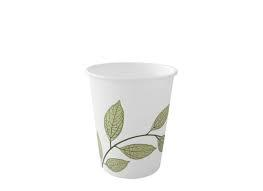cup: (83, 48, 171, 190)
